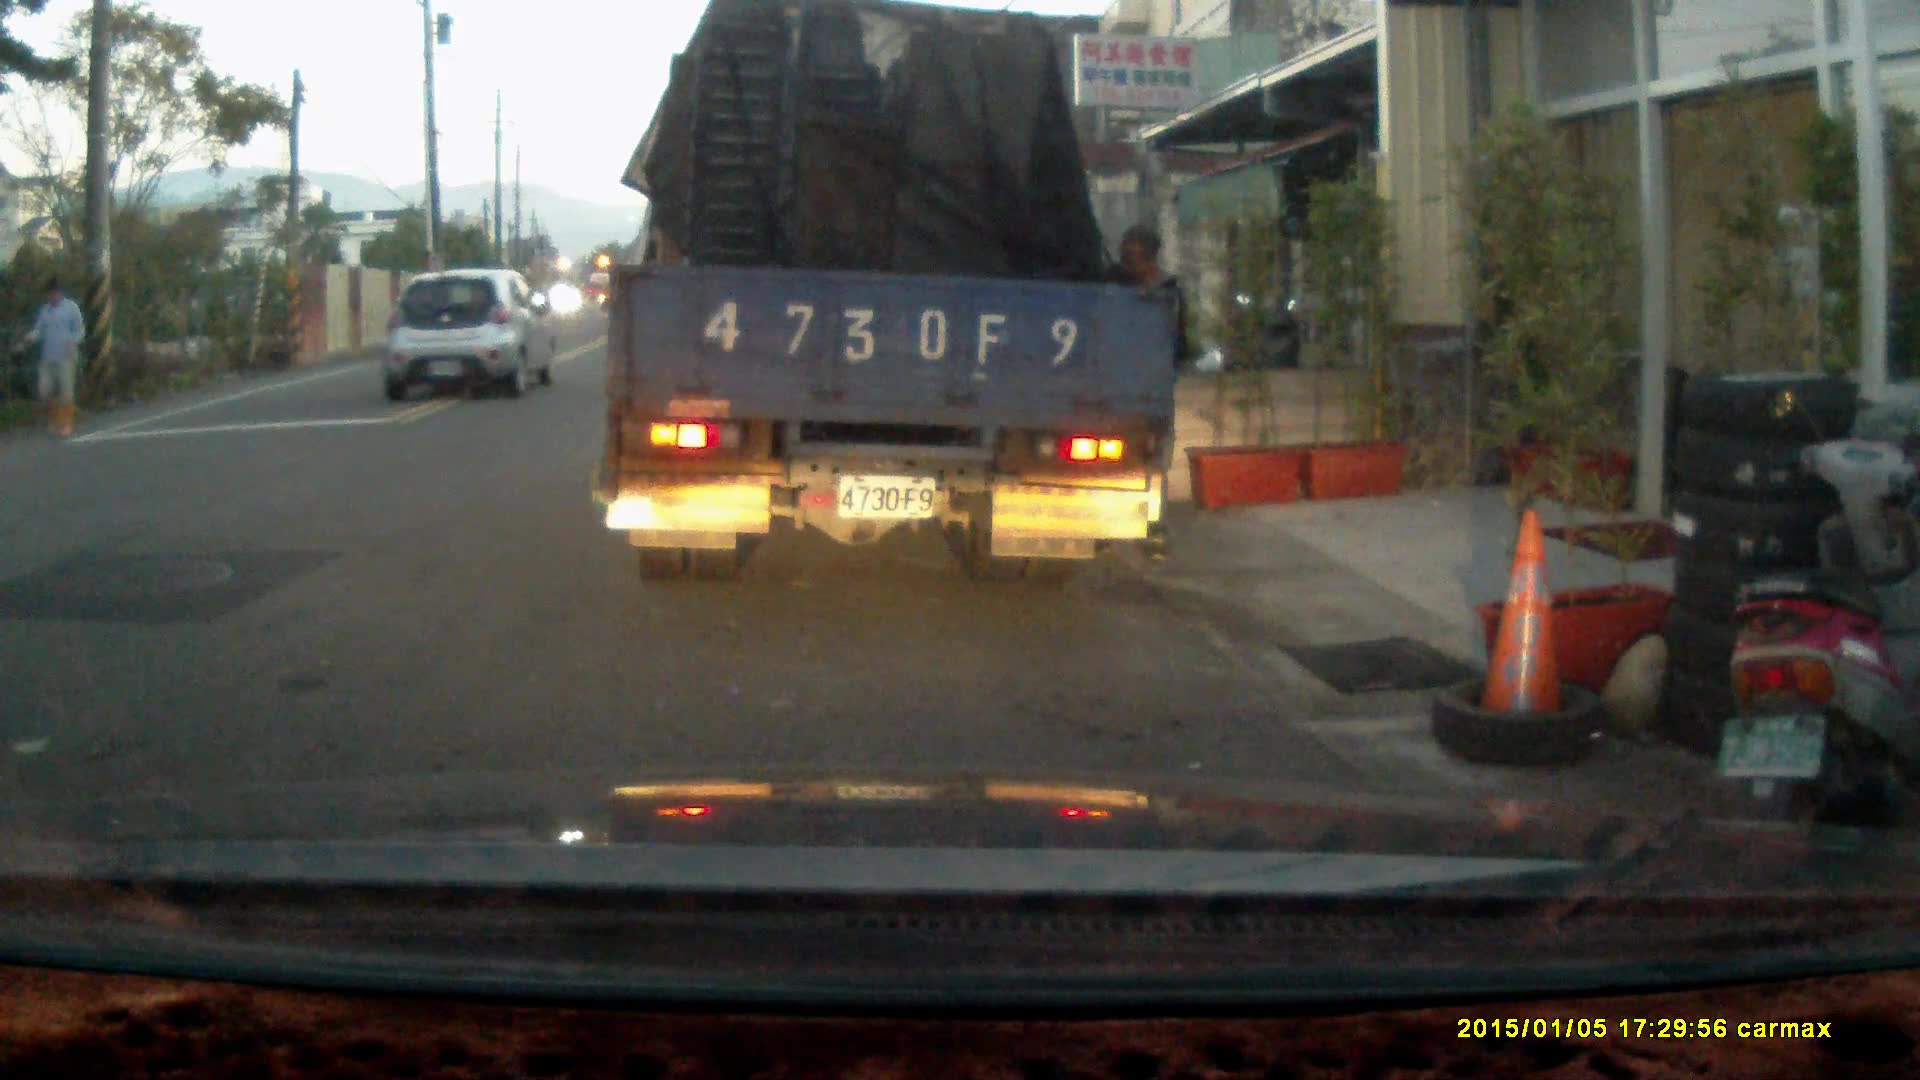pedestrian: (1086, 215, 1188, 565), (13, 279, 88, 437)
vehicle: (603, 23, 1186, 572), (375, 263, 555, 404)
